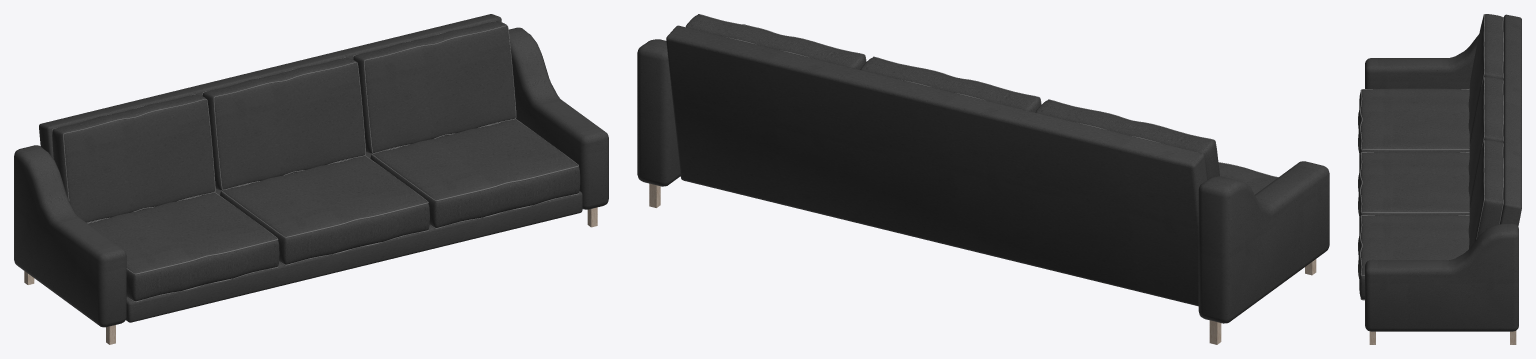
Rendered from sofa-modern.glb.
3 views of the same model, side by side, from view 1: azimuth 30°, elevation 25°; view 2: azimuth 150°, elevation 25°; view 3: azimuth 270°, elevation 25° (orthographic). The views are drawn at different scales.
Parts seen in each view (by area): view 1: Object_3, Object_2, Object_4; view 2: Object_3, Object_2, Object_4; view 3: Object_3, Object_2, Object_4.
Part boxes in pixels (x1=…): Object_3: x1=14, y1=14, x2=608, y2=327; Object_2: x1=52, y1=21, x2=578, y2=302; Object_4: x1=24, y1=207, x2=597, y2=344; Object_3: x1=637, y1=14, x2=1329, y2=323; Object_2: x1=698, y1=14, x2=1278, y2=177; Object_4: x1=649, y1=183, x2=1316, y2=344; Object_3: x1=1358, y1=14, x2=1521, y2=331; Object_2: x1=1360, y1=14, x2=1503, y2=300; Object_4: x1=1369, y1=331, x2=1516, y2=344.
Size of the model in its own units: 2.75 by 0.8176 by 0.8914.
Materials: 3 (3 with a texture image).
